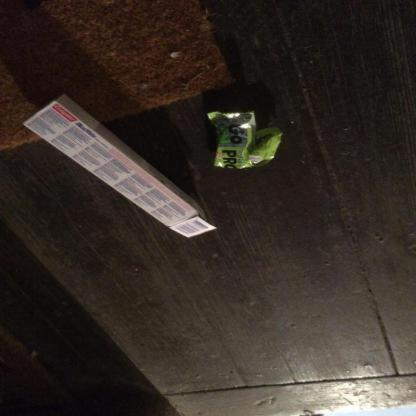Carton: (22, 93, 218, 238)
Plastic bag - wrapper: (206, 111, 283, 169)
